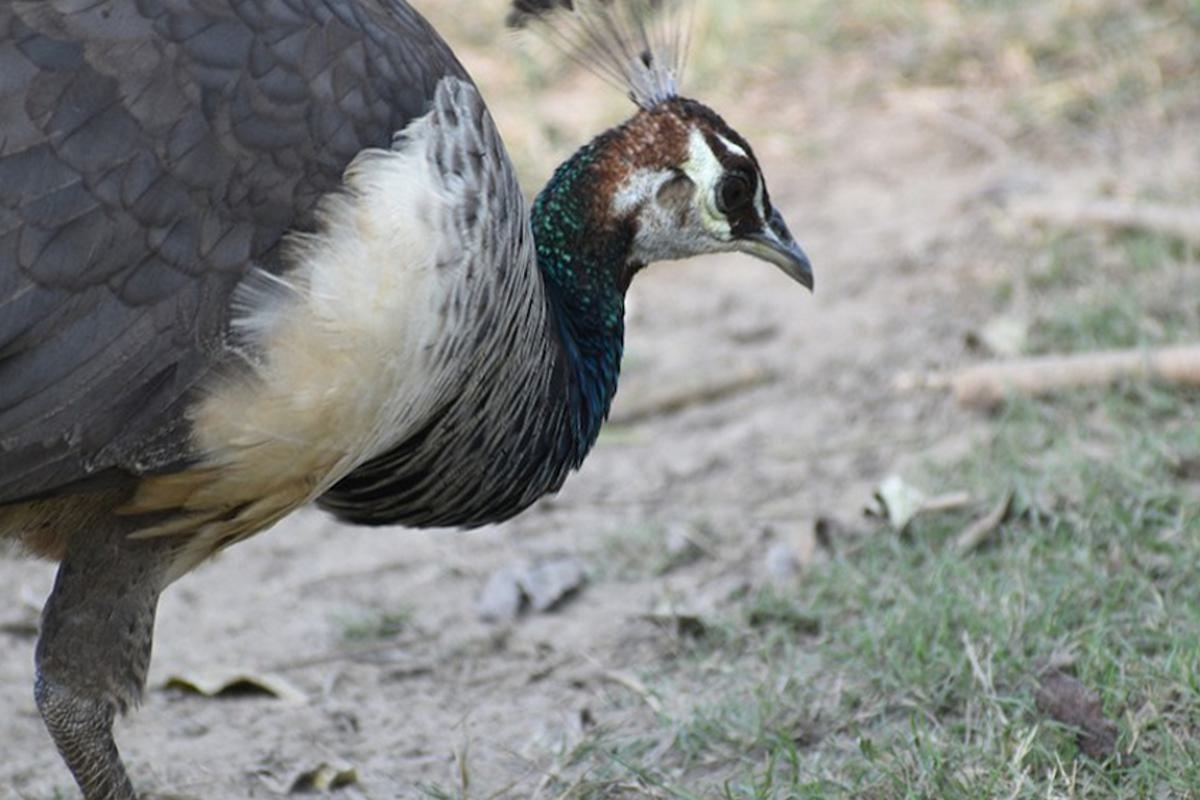peacock: (1, 51, 920, 718)
